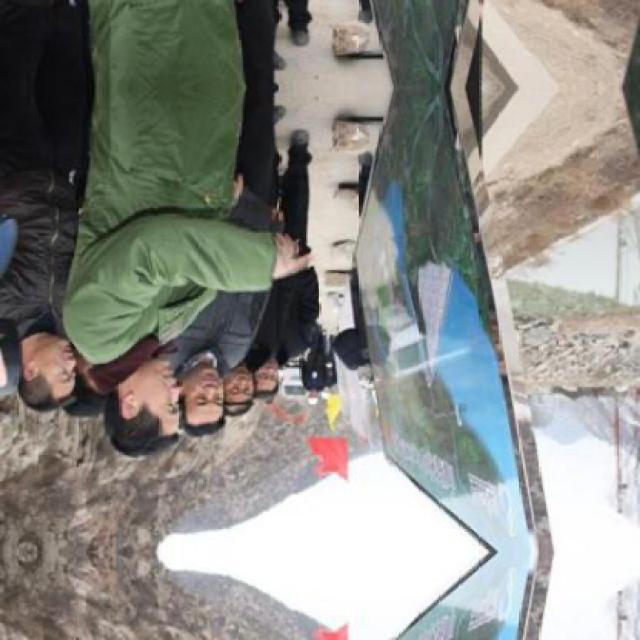sin casco: (160, 322, 238, 441), (0, 316, 82, 421), (94, 374, 182, 448), (202, 355, 258, 406), (242, 352, 282, 400)
